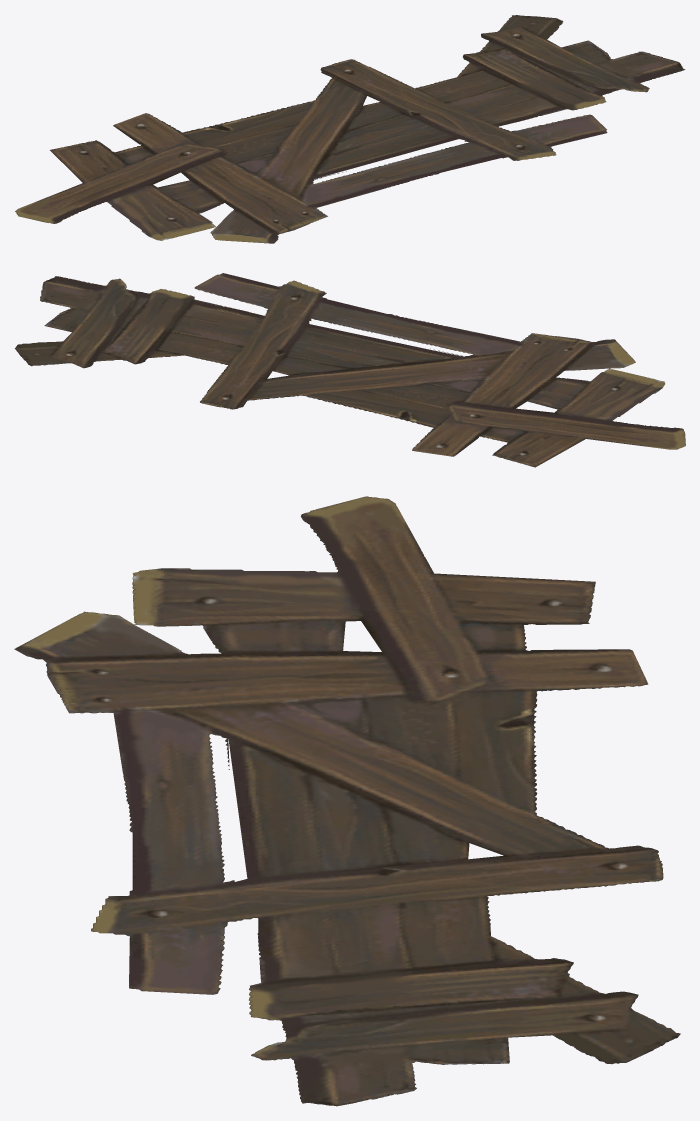
The model's file is yw_newshanlin_qiao_001.FBX.
The picture shows the model from 3 angles, top to bottom: view 1: azimuth 30°, elevation 25°; view 2: azimuth 150°, elevation 25°; view 3: azimuth 270°, elevation 25°; orthographic projection. The views are drawn at different scales.
Visible parts, largest first — view 1: yw_newshanlin_qiao_001; view 2: yw_newshanlin_qiao_001; view 3: yw_newshanlin_qiao_001.
Part boxes in pixels (x1=…): yw_newshanlin_qiao_001: x1=15, y1=15, x2=685, y2=243; yw_newshanlin_qiao_001: x1=15, y1=273, x2=685, y2=467; yw_newshanlin_qiao_001: x1=14, y1=496, x2=680, y2=1106.
Bounding box in the file's own units: 72.95 × 33.91 × 0.
